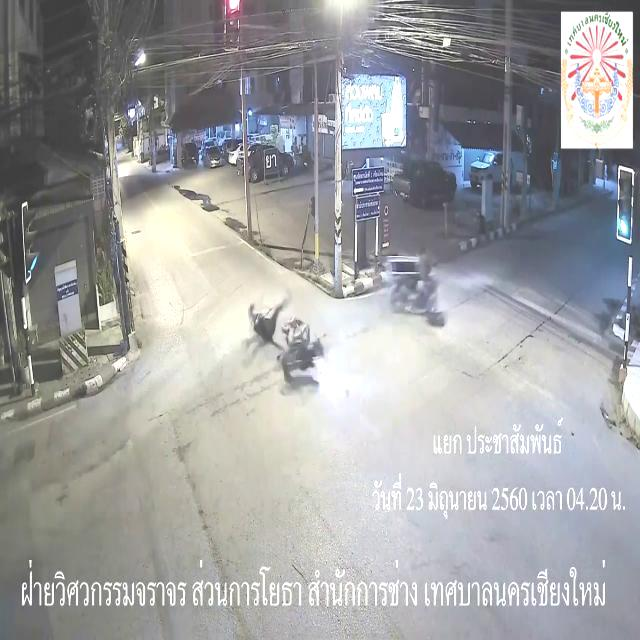accident: (278, 255, 434, 383), (384, 254, 434, 316), (278, 323, 324, 383)
non-accident: (160, 137, 314, 189)
